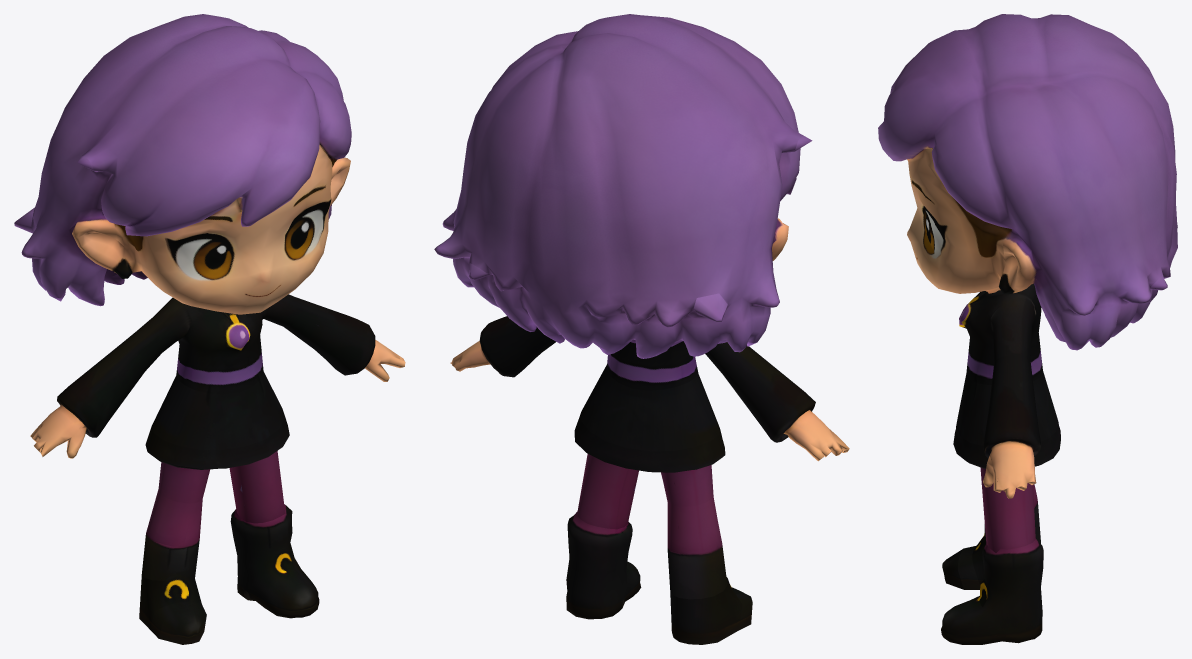
Rendered from Psj_AMITY_chibi_EMMANUEL.fbx.
The picture shows the model from 3 angles, left to right: view 1: azimuth 30°, elevation 25°; view 2: azimuth 150°, elevation 25°; view 3: azimuth 270°, elevation 25°; orthographic projection. The views are drawn at different scales.
Visible parts, largest first — view 1: Amity; view 2: Amity; view 3: Amity.
Boxes of the visible parts, <box> form: Amity: <box>14,14,405,644</box>; Amity: <box>434,14,849,644</box>; Amity: <box>878,14,1177,644</box>.
Size of the model in its own units: 1.49 by 2.19 by 1.02.
1 material, 1 textured.
